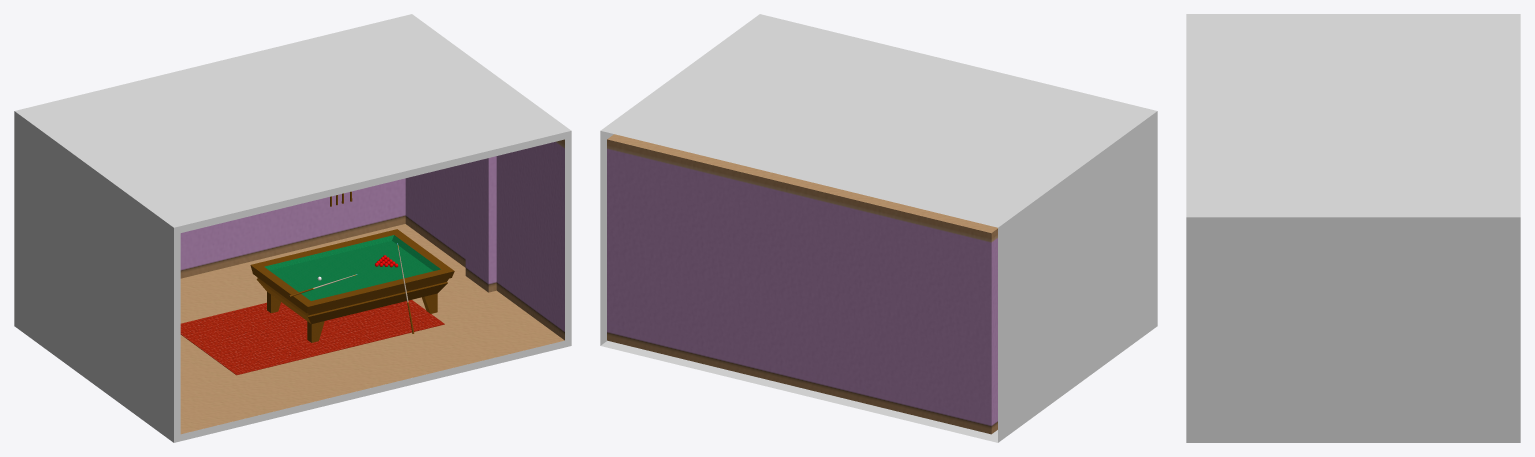
File: Arcade_A2.FBX
3 renders of one model, left to right at view 1: azimuth 30°, elevation 25°; view 2: azimuth 150°, elevation 25°; view 3: azimuth 270°, elevation 25°, orthographic. The views are drawn at different scales.
Parts seen in each view (by area): view 1: rmArcExterior, rmArcade, arcPool; view 2: rmArcExterior, rmArcade; view 3: rmArcExterior.
Part boxes in pixels (<box>): rmArcExterior: <box>14,14,571,442</box>; rmArcade: <box>180,139,564,434</box>; arcPool: <box>250,229,454,342</box>; rmArcExterior: <box>600,14,1157,442</box>; rmArcade: <box>607,134,997,434</box>; rmArcExterior: <box>1186,14,1520,442</box>.
Bounding box in the file's own units: 99.91 × 51.67 × 69.41.
